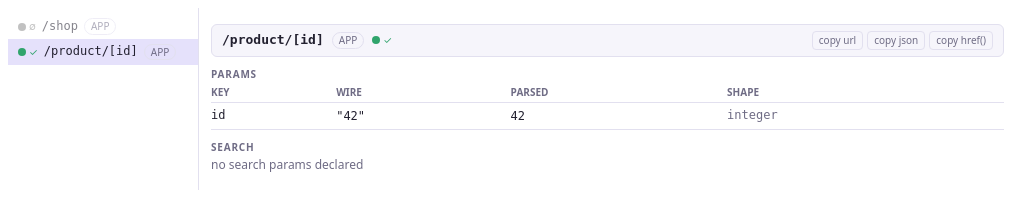
Test: session sidebar › auto-focuses the current route; selecting a stale one shows its snapshot read-only
This screenshot has width=1021, height=207.
expect the 1st text "/product/[id]" is shown: met, box [222,31,324,50]
Click the button "∅ /shop app". click: click(103, 27)
box: [8,14,198,39]
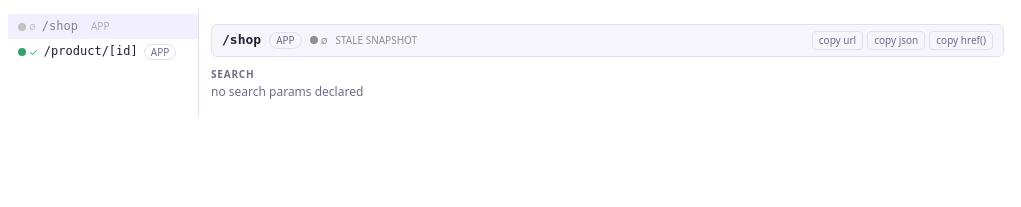
expect the text "/shop" in the row of "stale snapshot" is shown: met, box [222,32,261,47]
expect the text "stale snapshot" is shown: met, box [336,33,417,48]
